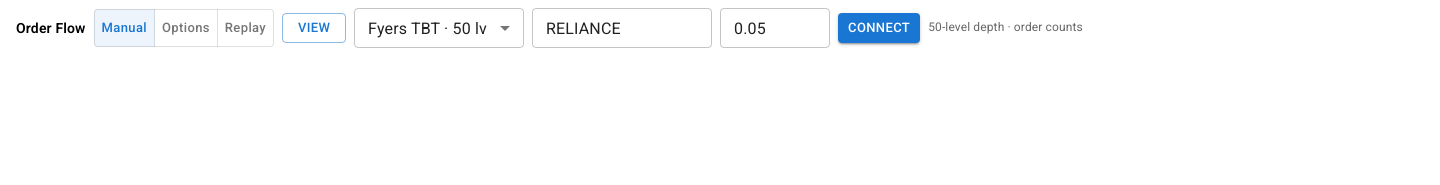
Test: OrderFlowPage › shows an error when the option chain fails to load
Click the button "Options".
click(186, 28)  # box [154, 9, 218, 47]
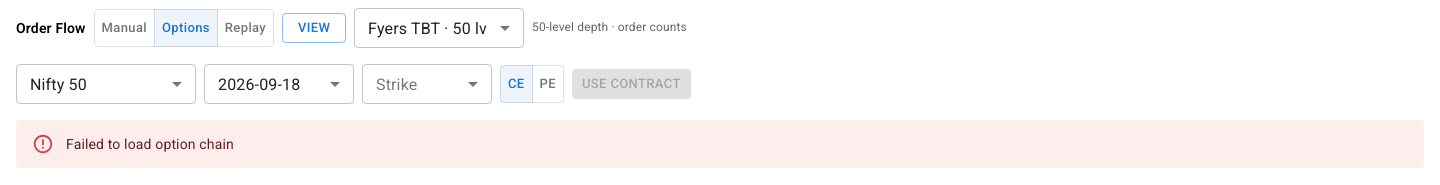
Now the message "Failed to load option chain" is shown, box [16, 120, 1424, 168]
